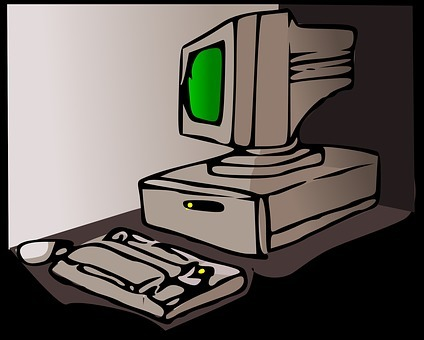tvmonitor: (157, 9, 363, 159)
